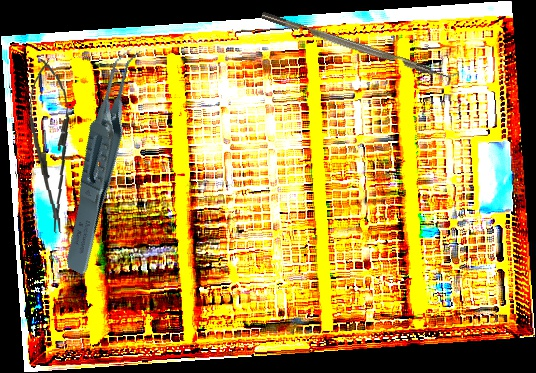Chopper: (260, 2, 461, 85)
Needle Holder: (24, 57, 78, 236)
Tissue Forceps: (22, 42, 188, 277)
